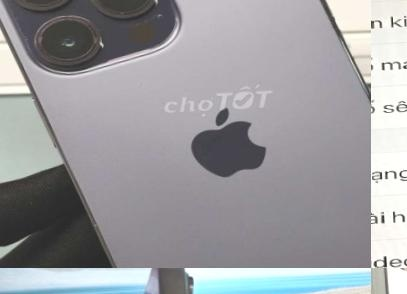scratch: (157, 268, 188, 280)
